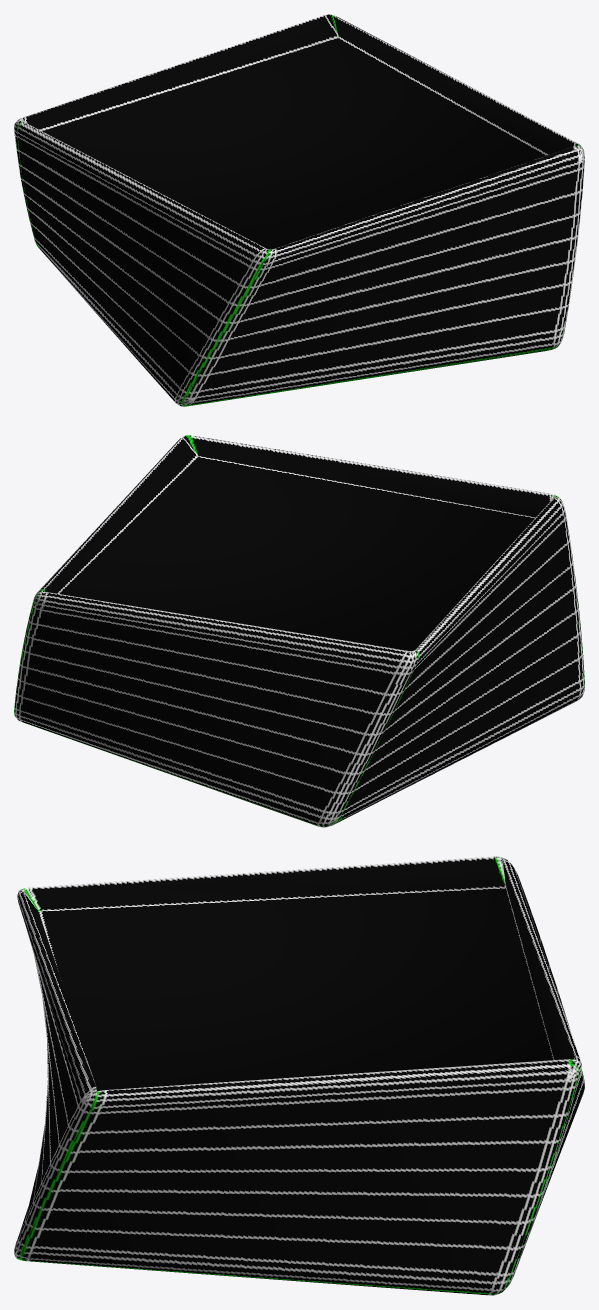
The model's file is button base.FBX.
The picture shows the model from 3 angles, top to bottom: view 1: azimuth 30°, elevation 25°; view 2: azimuth 150°, elevation 25°; view 3: azimuth 270°, elevation 25°; orthographic projection. The views are drawn at different scales.
Visible parts, largest first — view 1: Box002; view 2: Box002; view 3: Box002.
Boxes of the visible parts, <box> form: Box002: <box>14,14,584,406</box>; Box002: <box>14,435,584,827</box>; Box002: <box>14,856,584,1295</box>.
Size of the model in its own units: 42.58 by 16.87 by 42.58.
